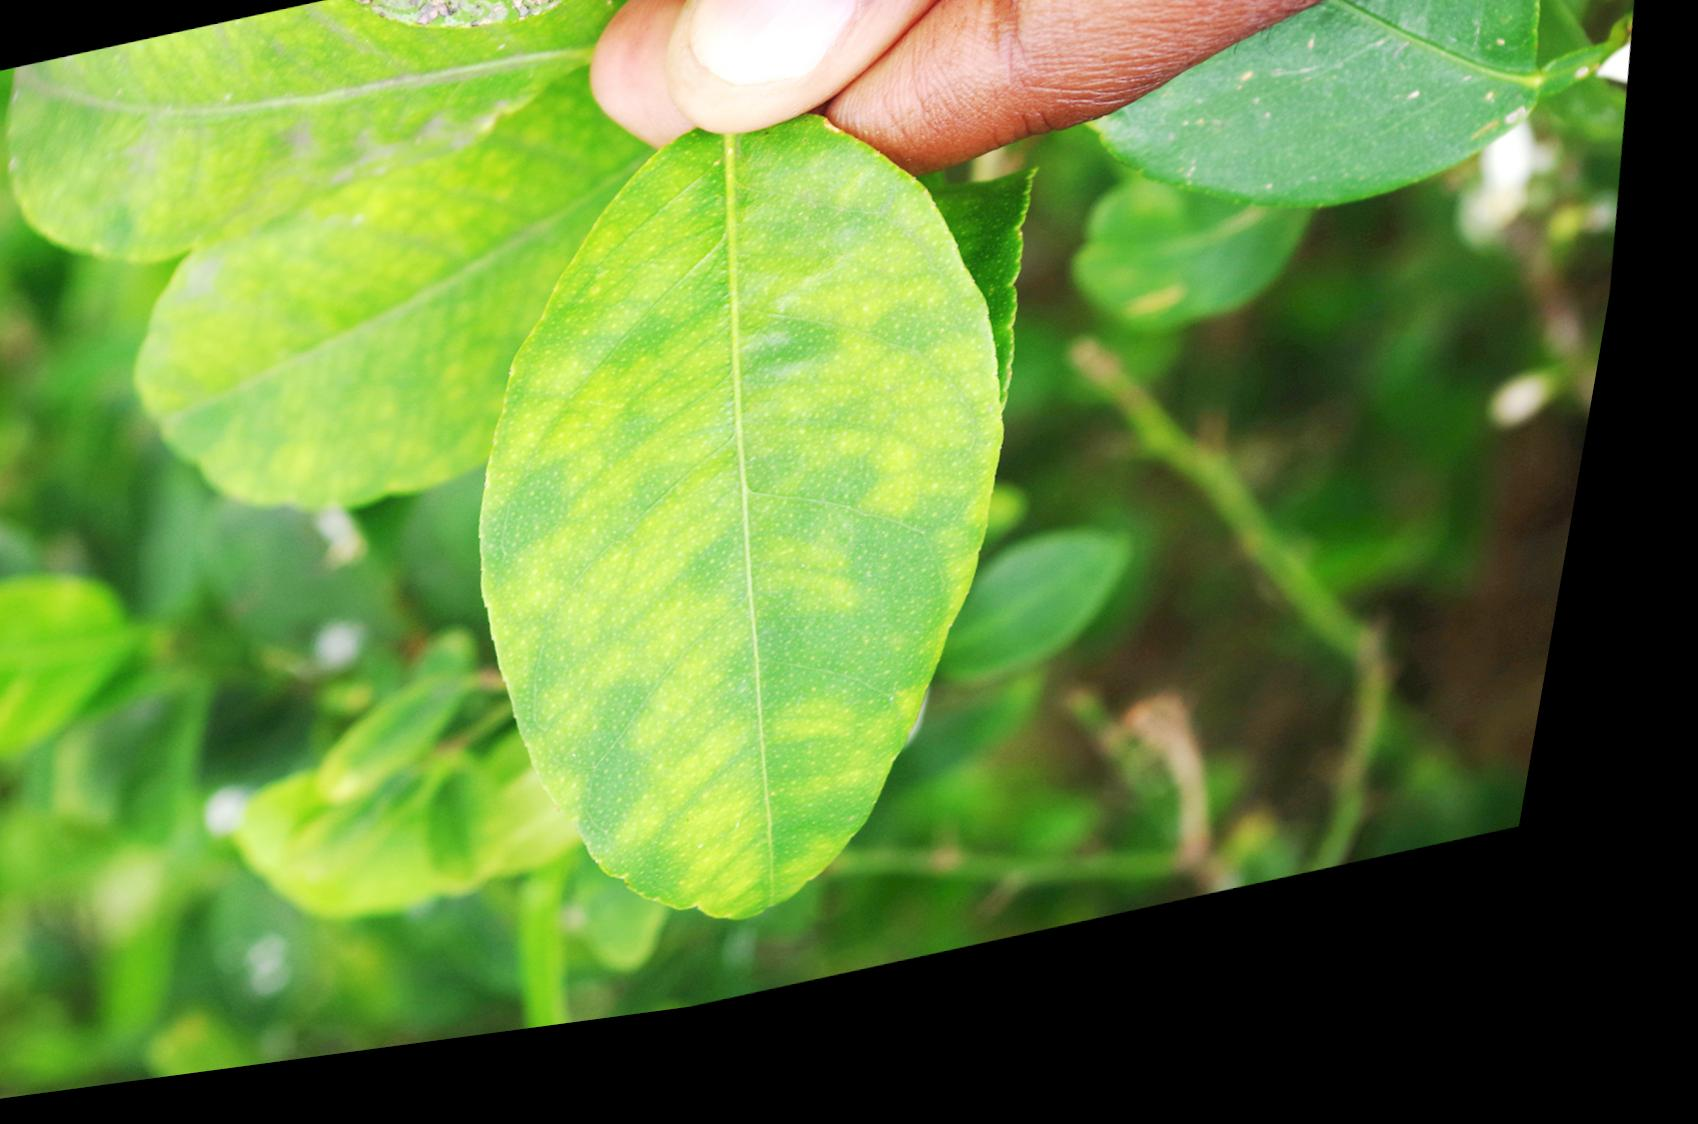Citrus Greening: (400, 88, 1116, 1016)
